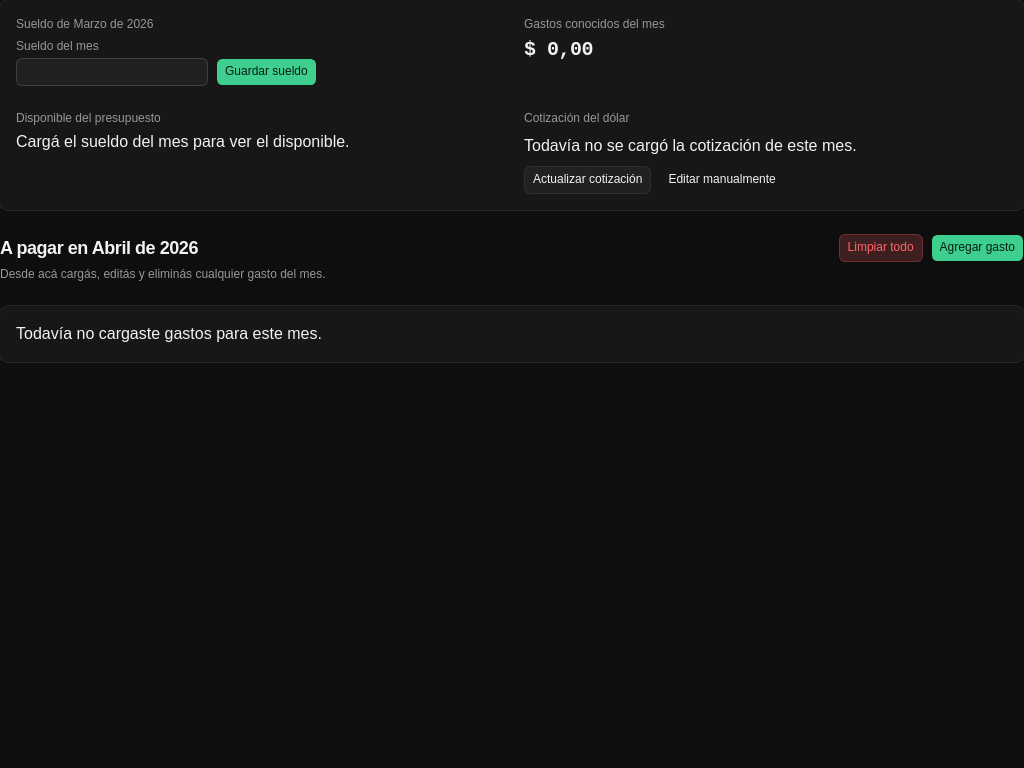
recurrentes desde Presupuesto › no ofrece generar un recurrente detenido ni uno que ya cumplió sus meses
Step 1. Click the button "Agregar gasto" → point(977, 248), box x1=931 y1=234 x2=1023 y2=262
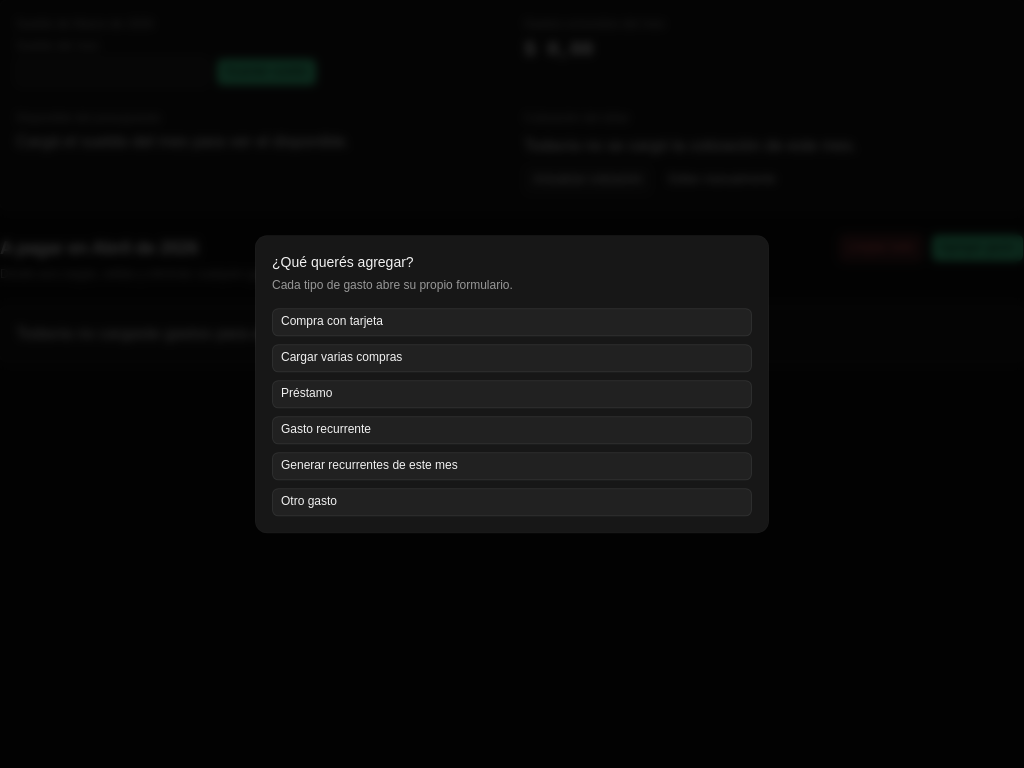
Step 2. Click the button "Generar recurrentes de este mes" → point(369, 465), box x1=272 y1=452 x2=752 y2=480
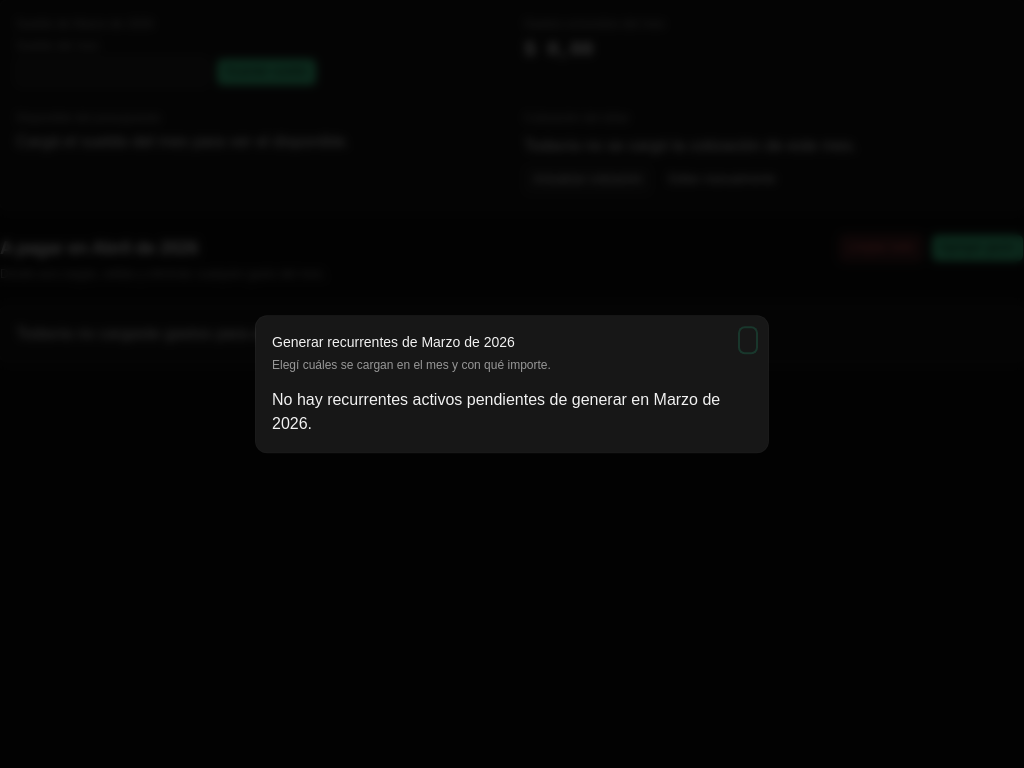
Result: the text "No hay recurrentes activos pendientes de generar en Marzo de 2026." is shown at x1=272 y1=388 x2=752 y2=436
